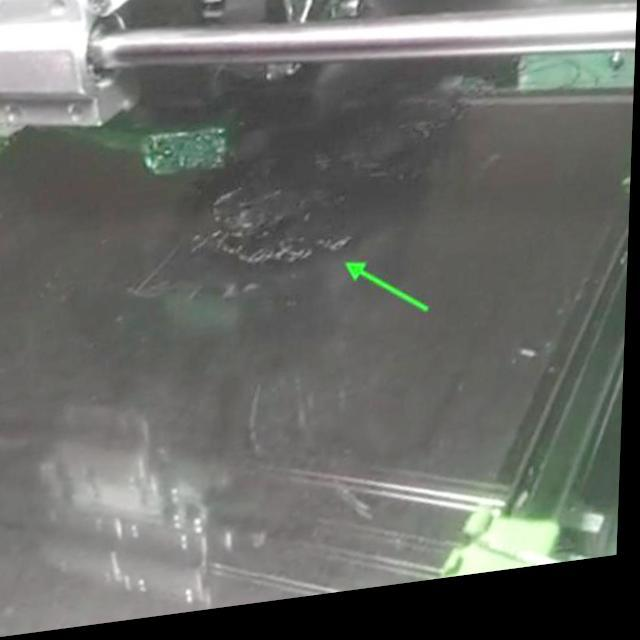spaghetti: (194, 222, 359, 285)
